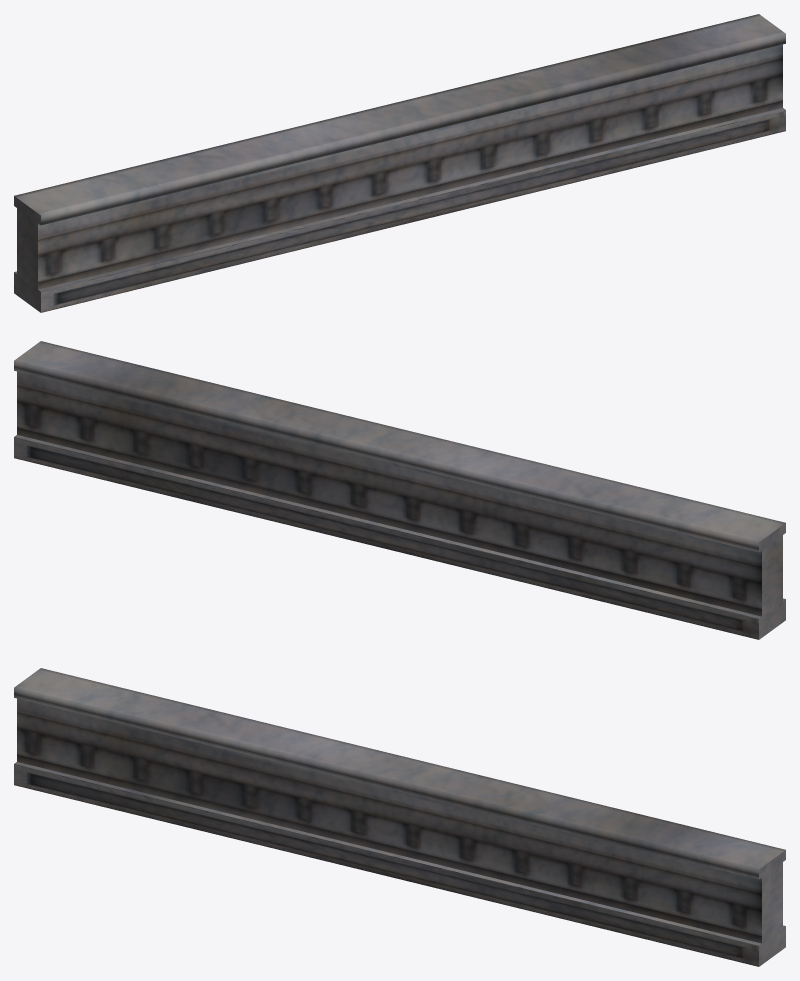
The model's file is railing_01.fbx.
3 views of the same model, one above another, from view 1: azimuth 30°, elevation 25°; view 2: azimuth 150°, elevation 25°; view 3: azimuth 330°, elevation 25° (orthographic).
Visible parts, largest first — view 1: railing_01; view 2: railing_01; view 3: railing_01.
Boxes of the visible parts, x1,y1,x2,y2 form: railing_01: (14,14,785,312); railing_01: (14,341,785,639); railing_01: (14,668,785,966).
Bounding box in the file's own units: 800 × 100 × 50.
